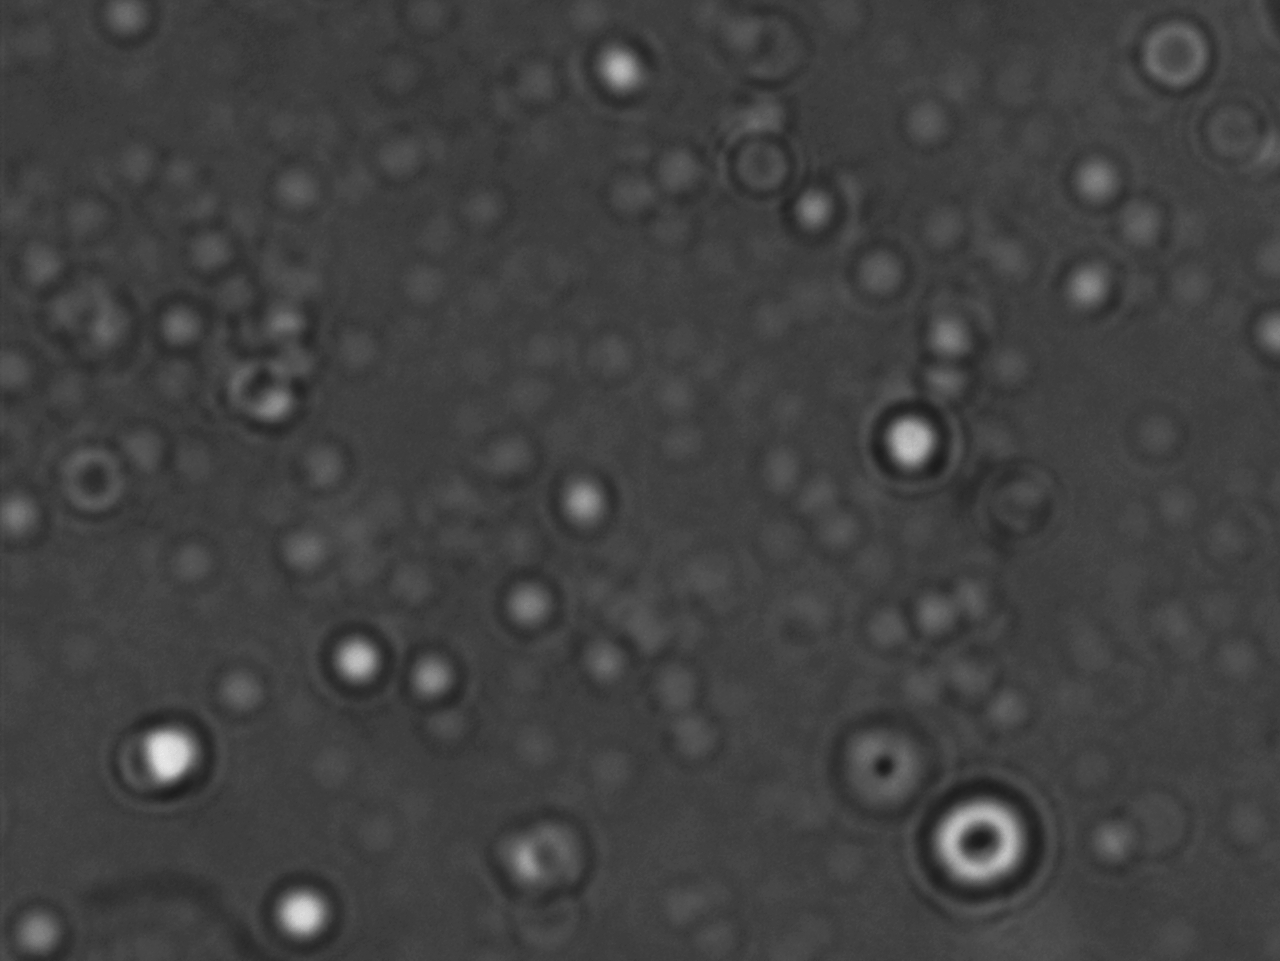depth:24: (908, 770, 1051, 907)
